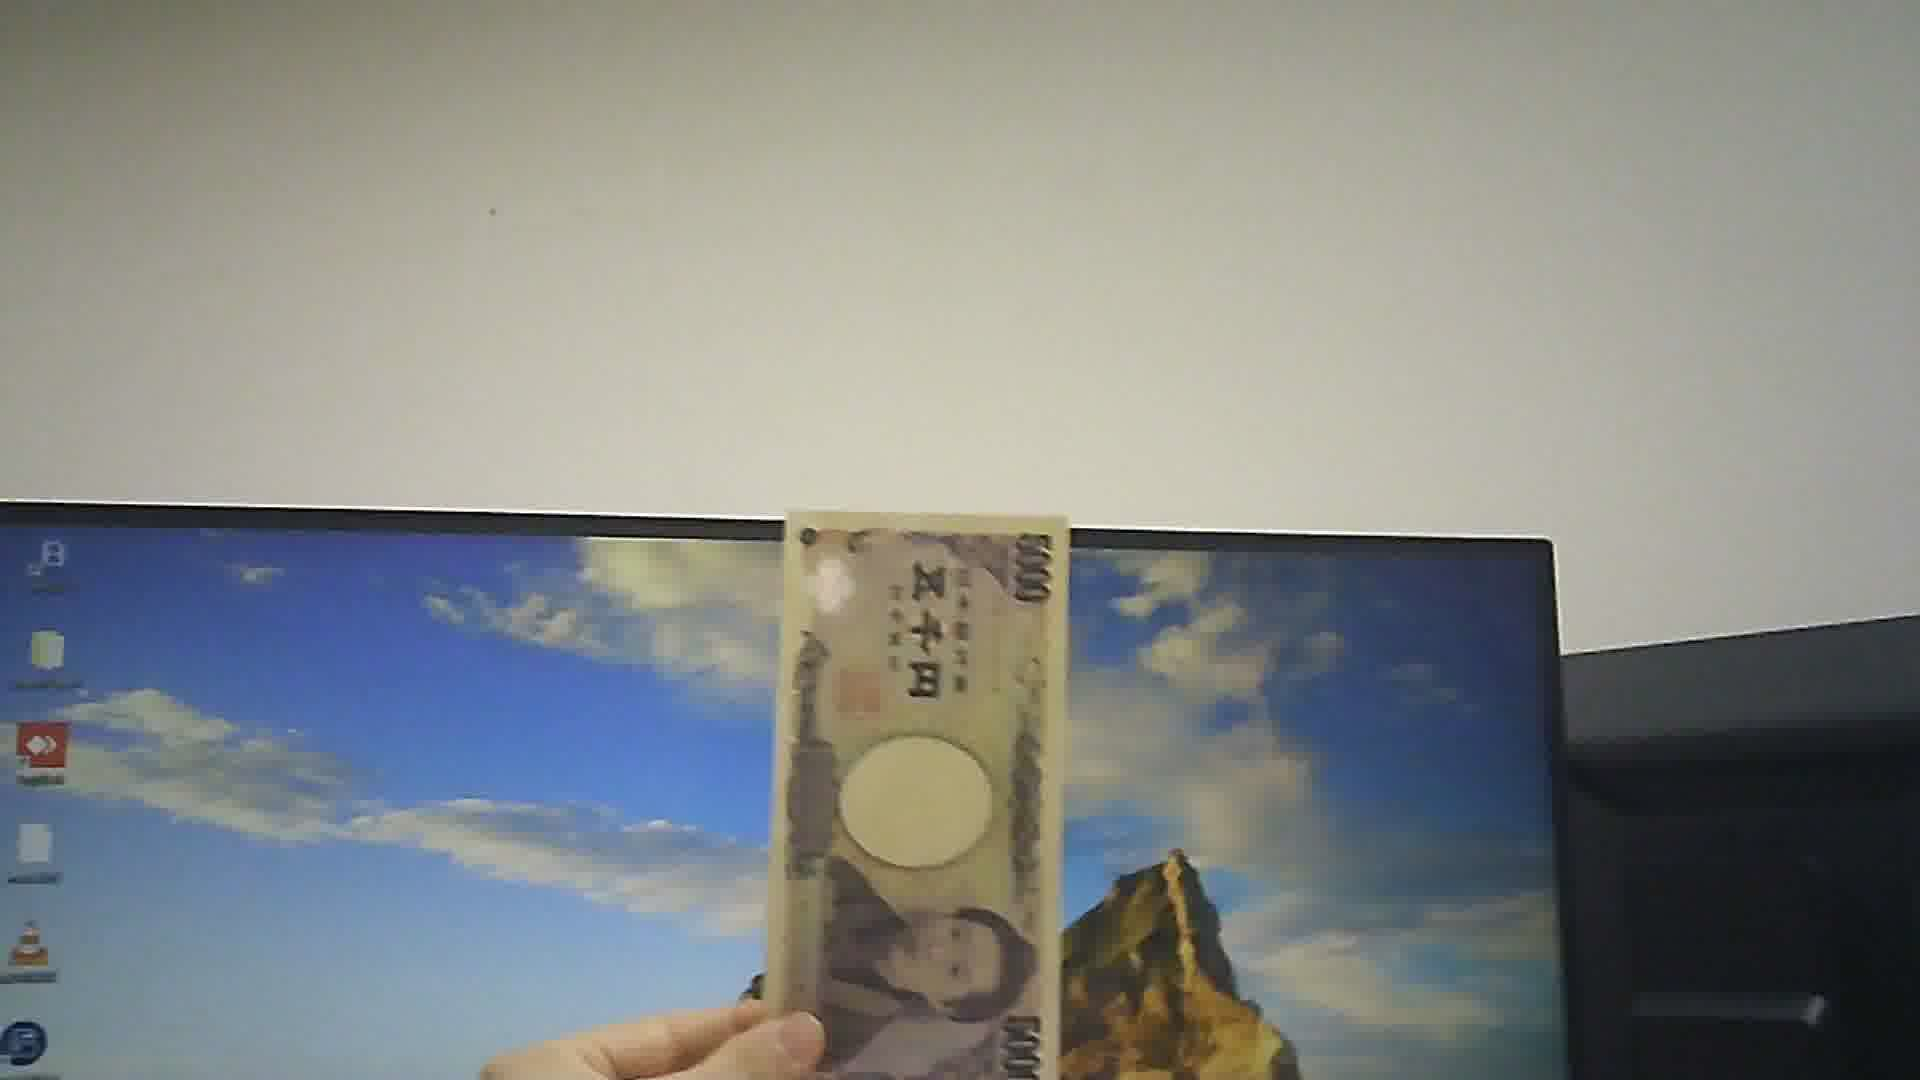5,000 Yen: (775, 488, 1062, 1079)
